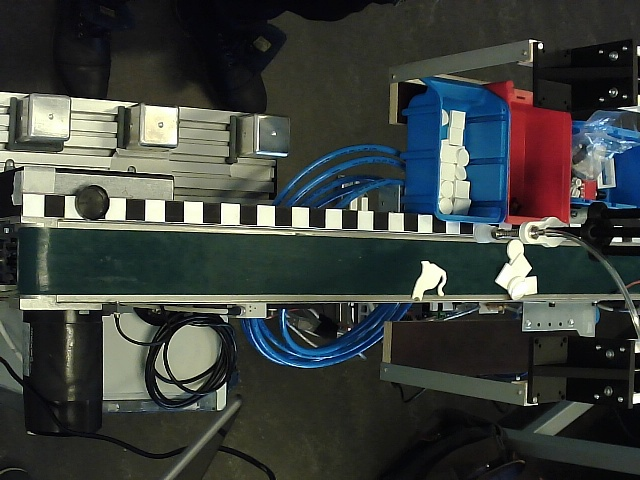cat: (411, 260, 449, 301)
